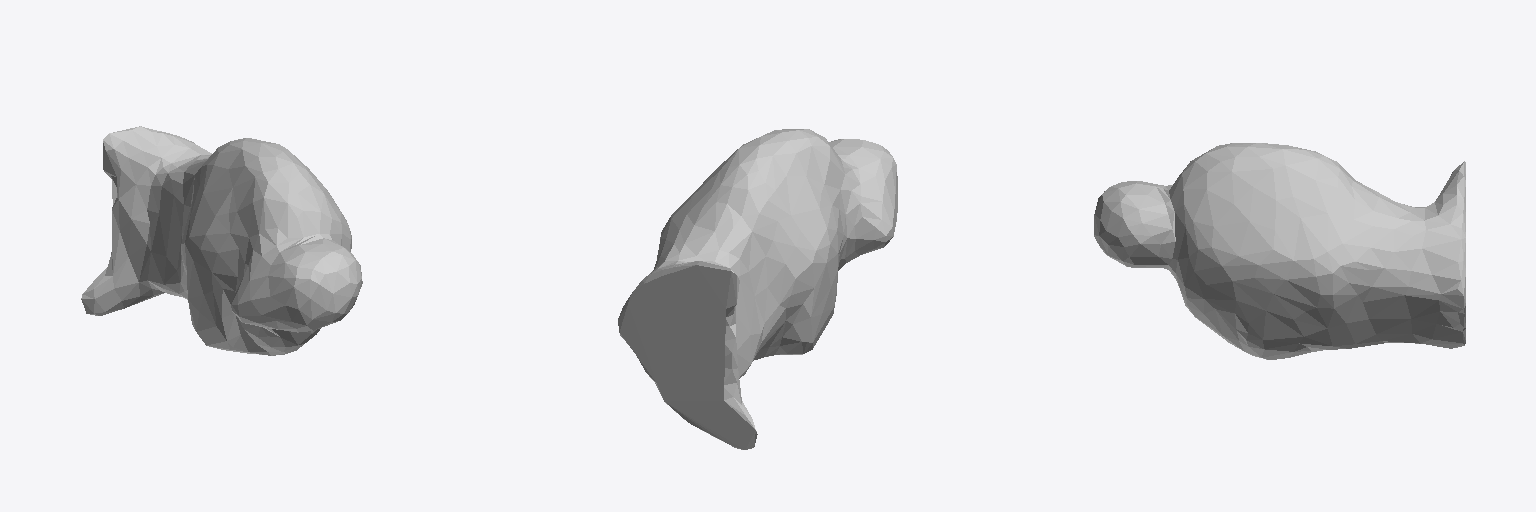
File: statue.obj
3 views of the same model, side by side, from view 1: azimuth 30°, elevation 25°; view 2: azimuth 150°, elevation 25°; view 3: azimuth 270°, elevation 25° (orthographic).
Visible parts, largest first — view 1: object__1; view 2: object__1; view 3: object__1.
Part boxes in pixels (x1,y1,x2,y2): object__1: (81,126,362,355); object__1: (618,129,897,449); object__1: (1094,143,1465,359).
Bounding box in the file's own units: 181 × 233 × 356.